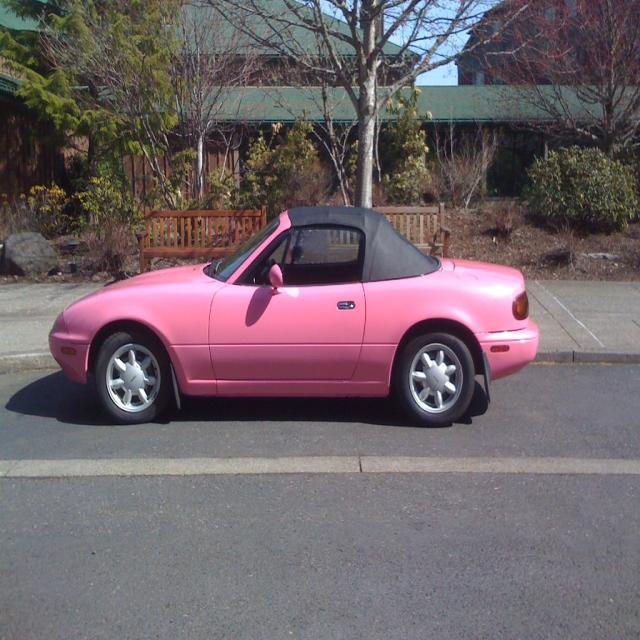car: (47, 196, 542, 424)
